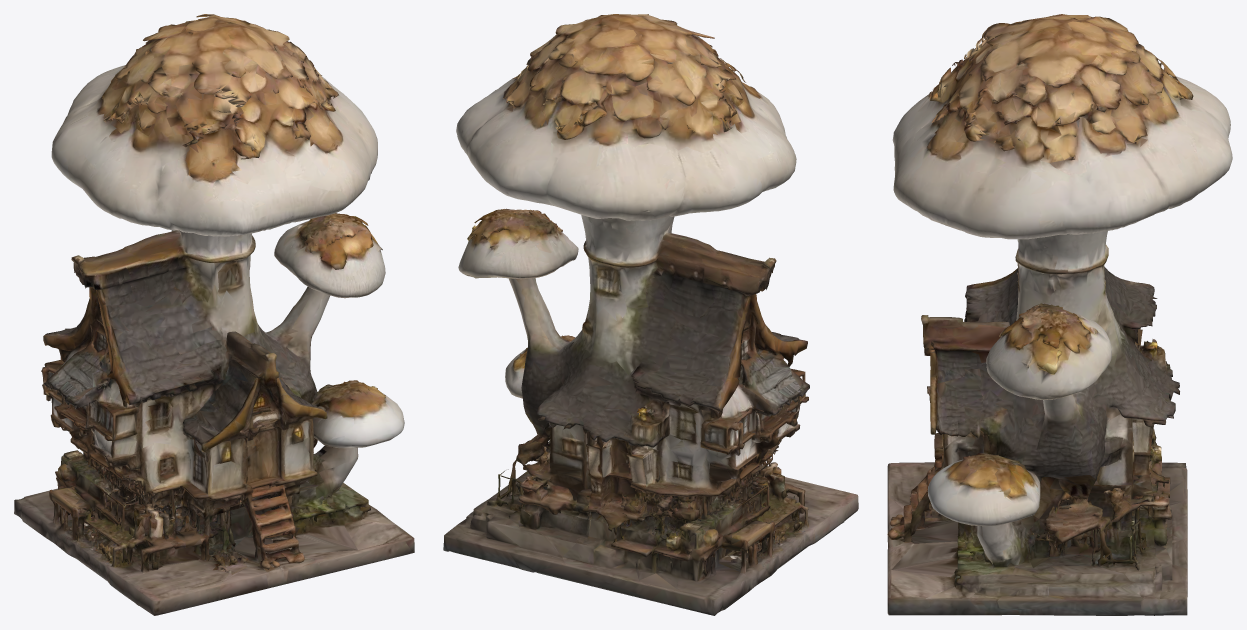
The model's file is Toadstool_Tavern.glb.
The picture shows the model from 3 angles, left to right: view 1: azimuth 30°, elevation 25°; view 2: azimuth 150°, elevation 25°; view 3: azimuth 270°, elevation 25°; orthographic projection. The views are drawn at different scales.
Visible parts, largest first — view 1: Toadstool_Tavern; view 2: Toadstool_Tavern; view 3: Toadstool_Tavern.
Part boxes in pixels (x1,y1,x2,y2): Toadstool_Tavern: (14, 14, 414, 615); Toadstool_Tavern: (443, 14, 858, 615); Toadstool_Tavern: (887, 14, 1232, 615).
Size of the model in its own units: 1.34 by 1.99 by 1.18.
1 material, 1 textured.
